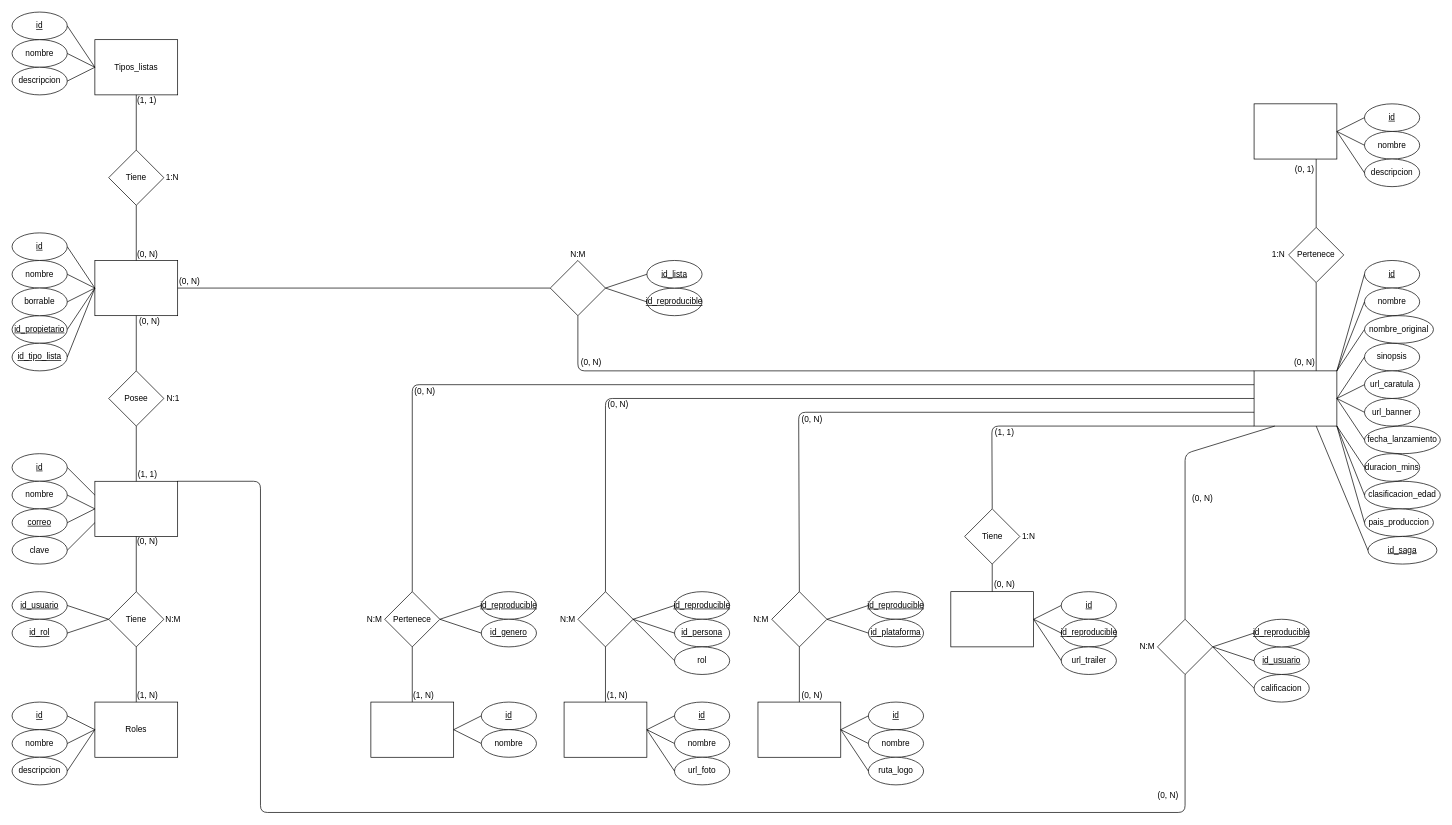
Image size: 1452x825. Some labels were removed from this diagram. Each missing label, with the centre of its shape:
Agrupa: the point at 577,288
Califica: the point at 1185,646
Está en: the point at 799,619
Figura: the point at 605,619
Generos: the point at 412,729
Listas: the point at 136,288
Personas: the point at 605,729
Plataformas: the point at 799,729
Reproducibles: the point at 1295,398
Sagas: the point at 1295,131
Trailers: the point at 992,619
Usuarios: the point at 136,508
